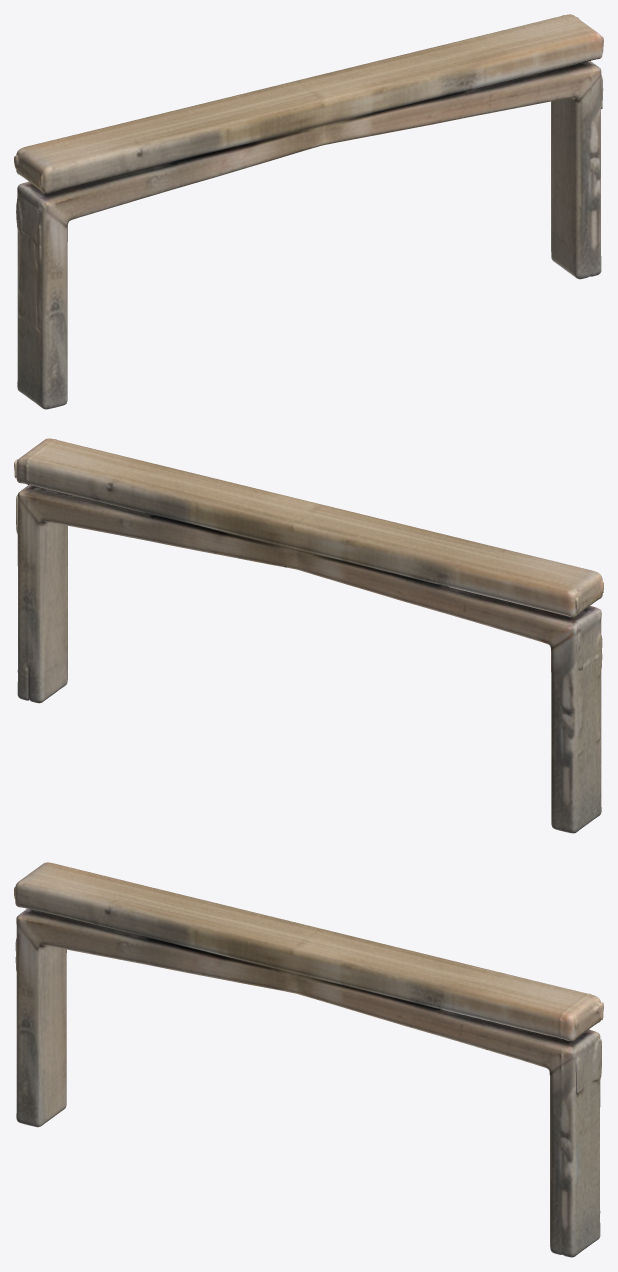
The model's file is product-farmhouse-matthes-console-table-weathered-wheat-03.glb.
The picture shows the model from 3 angles, top to bottom: view 1: azimuth 30°, elevation 25°; view 2: azimuth 150°, elevation 25°; view 3: azimuth 330°, elevation 25°; orthographic projection.
Visible parts, largest first — view 1: geometry_0; view 2: geometry_0; view 3: geometry_0.
Boxes of the visible parts, x1,y1,x2,y2 form: geometry_0: (14, 14, 603, 409); geometry_0: (14, 438, 603, 833); geometry_0: (14, 862, 603, 1257).
Size of the model in its own units: 1.99 by 0.8224 by 0.1934.
1 material, 1 textured.
